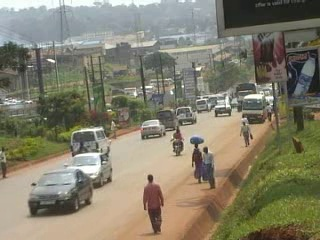Car: (28, 167, 94, 218), (62, 151, 114, 187), (138, 118, 168, 139), (212, 98, 234, 118)
Motorcycle: (169, 137, 183, 157)
